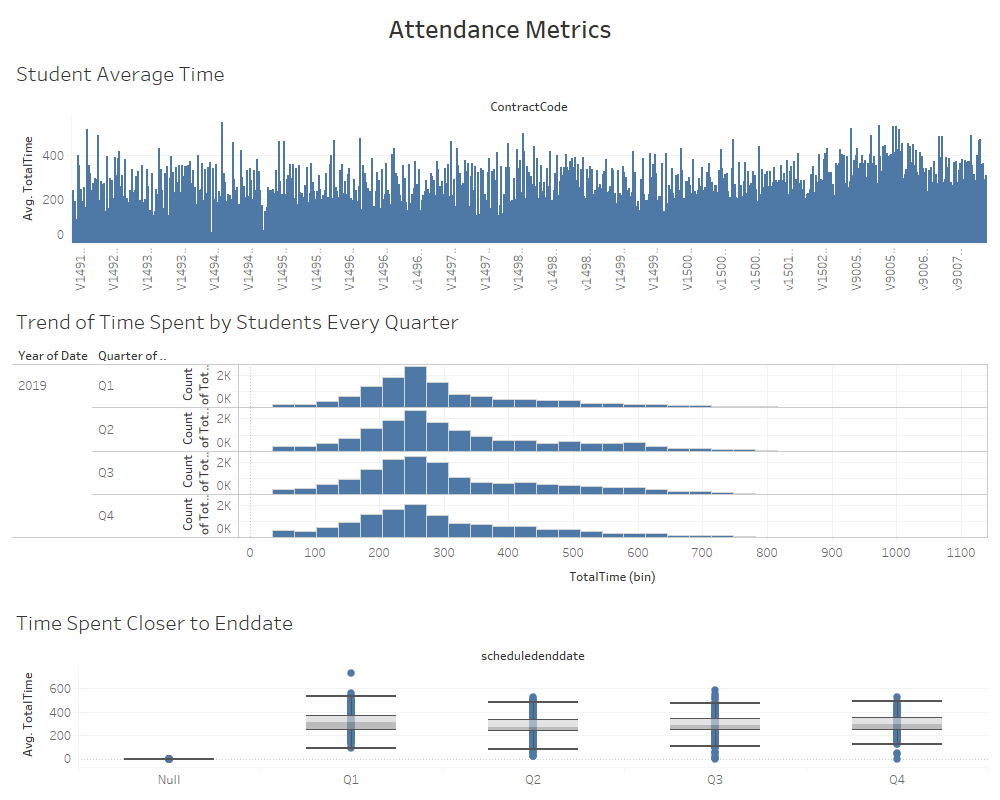

The dashboard page shown, as its layout file describes it:
{"tool":"tableau","page":{"name":"Attendance","canvas":[1000,800],"ordinal":1},"visuals":[{"type":"title","box":[8,8,984,41]},{"type":"worksheet","title":"Avg Time_Student","mark":"Automatic","rows":["TotalTime"],"cols":["ContractCode"],"box":[8,49,984,248.3]},{"type":"worksheet","title":"Trend","mark":"Automatic","rows":["Date","Date","TotalTime"],"cols":["TotalTime (bin)"],"box":[8,297.3,984,300.4]},{"type":"worksheet","title":"Time_Quarter","mark":"Circle","rows":["TotalTime"],"cols":["scheduledenddate"],"box":[8,597.7,984,194.3]}]}

Visuals, with their boxes in screenshot pixels (x1, y1, x2, y2), scaled from the page's 1000x800 canvas onto the 1000x800 screenshot:
title: [left=8, top=8, right=992, bottom=49]
"Avg Time_Student" worksheet: [left=8, top=49, right=992, bottom=297]
"Trend" worksheet: [left=8, top=297, right=992, bottom=598]
"Time_Quarter" worksheet (Circle marks): [left=8, top=598, right=992, bottom=792]
